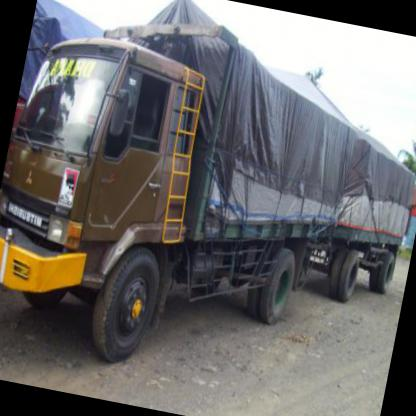truck: (1, 21, 216, 373)
